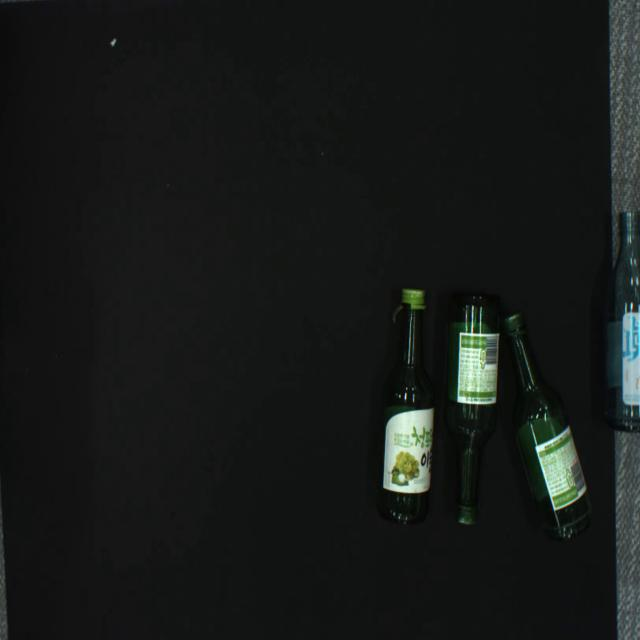soju-bottle: (501, 312, 594, 541), (376, 289, 435, 525), (443, 293, 502, 524), (600, 211, 640, 432)
